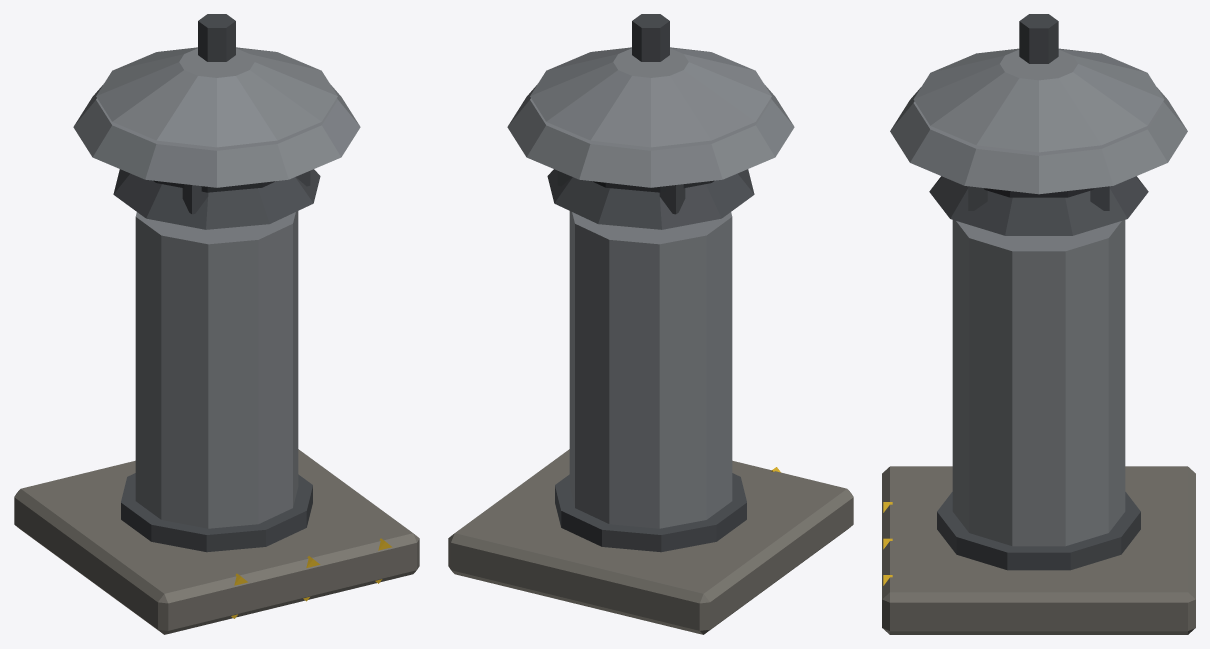
File: bunker_vent.fbx
The picture shows the model from 3 angles, left to right: view 1: azimuth 30°, elevation 25°; view 2: azimuth 150°, elevation 25°; view 3: azimuth 270°, elevation 25°; orthographic projection. The views are drawn at different scales.
Visible parts, largest first — view 1: bunker_vent; view 2: bunker_vent; view 3: bunker_vent.
Part boxes in pixels (x1=…): bunker_vent: x1=14, y1=14, x2=419, y2=634; bunker_vent: x1=448, y1=14, x2=853, y2=634; bunker_vent: x1=882, y1=14, x2=1195, y2=634.
Bounding box in the file's own units: 0.8 × 1.55 × 0.8.
